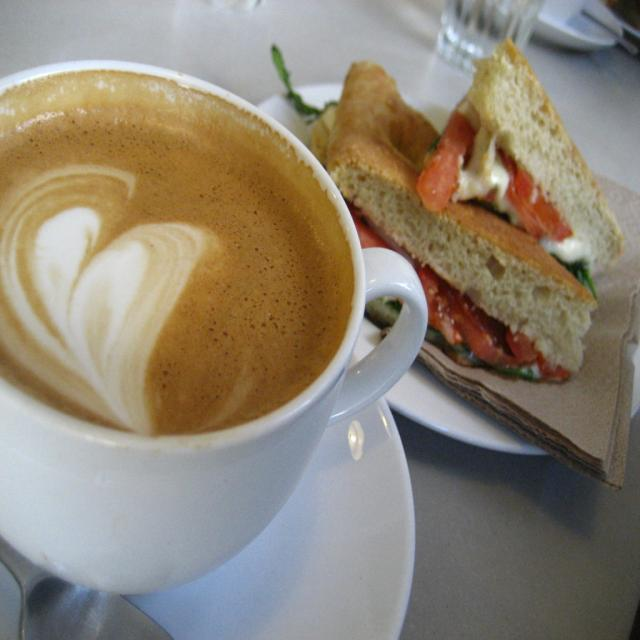Coffee: (18, 116, 406, 571)
Tea: (0, 72, 352, 440)
